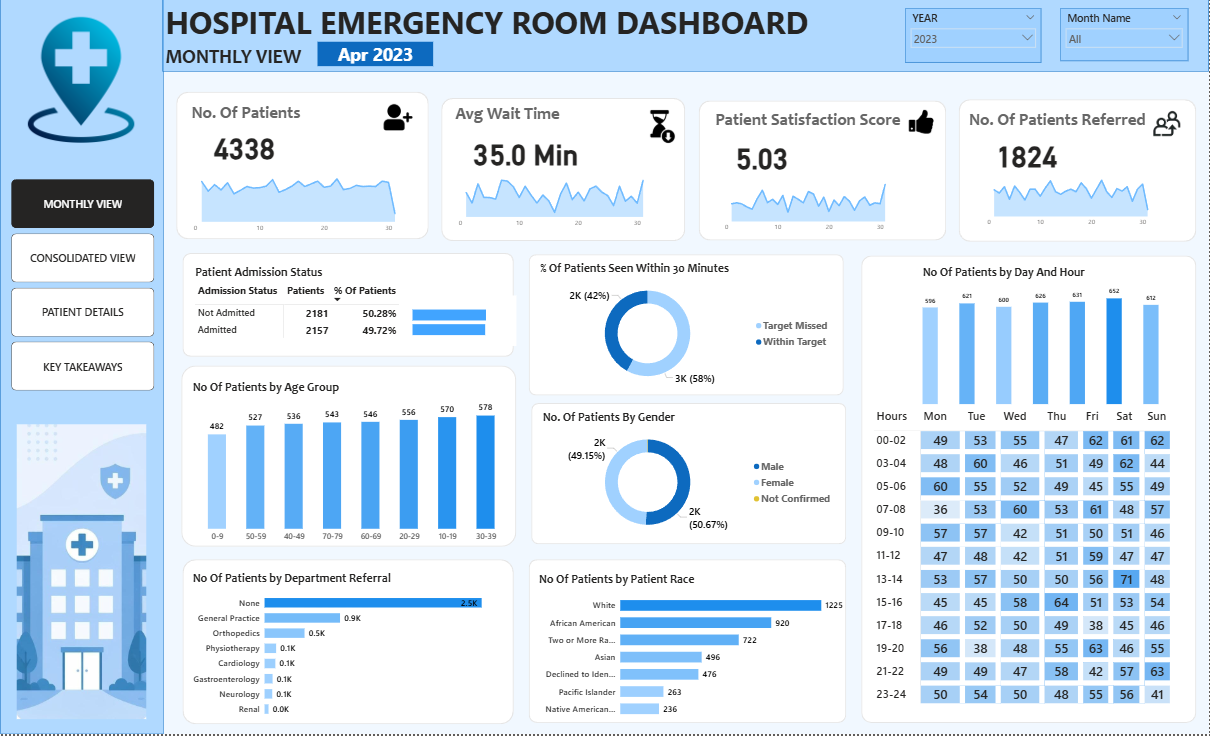

What the dashboard file says about the page in this screenshot:
{"tool":"powerbi","page":{"name":"MONTHLY VIEW ","canvas":[2300,1400],"ordinal":0},"visuals":[{"type":"shape","box":[840,189.2,464.1,272.2],"z":0},{"type":"shape","box":[335.3,178.3,480.3,280.6],"z":1000},{"type":"card","fields":{"Values":["Hospital ER_Data.No Of Patients"]},"box":[368.2,220.3,197,119.3],"z":1000,"group":"g2"},{"type":"shape","box":[0,0,311.5,1400.5],"z":2000},{"type":"card","fields":{"Values":["Hospital ER_Data.Avg Wait Time"]},"box":[881.4,233.3,235.9,119.3],"z":3000},{"type":"shape","box":[309.1,0,1990.2,140.3],"z":4000},{"type":"textbox","box":[309.1,0,1300.6,118.9],"z":5000},{"type":"textbox","box":[309.1,83.2,316.2,71.3],"z":6000},{"type":"slicer","fields":{"Values":["Date Table.YEAR"]},"box":[1721.4,18.1,259.2,103.7],"z":7000},{"type":"slicer","fields":{"Values":["Date Table.Month Name"]},"box":[2016.9,18.1,243.7,101.1],"z":8000},{"type":"textbox","box":[360.4,191.8,264.4,57],"z":8000,"group":"g2"},{"type":"card","fields":{"Values":["Min(Date Table.Month & year)"]},"box":[604,83,220.4,46.7],"z":9000},{"type":"areaChart","fields":{"Category":["Date Table.Date.Variation.Date Hierarchy.Day"],"Y":["Hospital ER_Data.No Of Patients"]},"box":[357.8,300.7,458.9,153],"z":9000,"group":"g2"},{"type":"areaChart","fields":{"Category":["Date Table.Date.Variation.Date Hierarchy.Day"],"Y":["Avg(Hospital ER_Data.Patient Waittime)"]},"box":[860.7,318.9,422.6,127],"z":10000},{"type":"group","id":"g1","title":"Group 1","box":[357.8,191.8,458.9,261.8],"z":11000},{"type":"areaChart","fields":{"Category":["Date Table.Date.Variation.Date Hierarchy.Day"],"Y":["Hospital ER_Data.No Of Patients"]},"box":[1335.1,292.9,458.9,153],"z":12000},{"type":"shape","box":[1328.4,195,470.8,266.3],"z":13000},{"type":"shape","box":[1823.7,192.6,451.8,271.1],"z":14000},{"type":"group","id":"g2","title":"Group 2","box":[357.8,191.8,458.9,261.8],"z":14001,"group":"g1"},{"type":"card","fields":{"Values":["Hospital ER_Data.satisfaction Score"]},"box":[1350.7,241.1,197,119.3],"z":15000},{"type":"areaChart","fields":{"Category":["Date Table.Date.Variation.Date Hierarchy.Day"],"Y":["Hospital ER_Data.satisfaction Score"]},"box":[1366.2,337,370.7,116.7],"z":16000},{"type":"card","fields":{"Values":["Hospital ER_Data.No. Of Patient Referred"]},"box":[1853.6,248.9,197,90.7],"z":17000},{"type":"areaChart","fields":{"Category":["Date Table.Date.Variation.Date Hierarchy.Day"],"Y":["Hospital ER_Data.No. Of Patient Referred"]},"box":[1866.6,329.2,370.7,116.7],"z":18000},{"type":"textbox","box":[860.7,194.4,230.7,54.4],"z":19000},{"type":"textbox","box":[1355.9,207.4,381.1,54.4],"z":20000},{"type":"textbox","box":[1838,206.9,356.7,57.1],"z":21000},{"type":"shape","box":[347.1,485.1,630.1,197.4],"z":22000},{"type":"pivotTable","title":"Patient Admission Status","fields":{"Rows":["Hospital ER_Data.Admission Status"],"Values":["Hospital ER_Data.No Of Patients1","Hospital ER_Data.No Of Patients"]},"box":[365.5,505.5,585.9,176.3],"z":23000},{"type":"barChart","fields":{"Category":["Hospital ER_Data.Admission Status"],"Y":["Hospital ER_Data.No Of Patients"]},"box":[780.3,565.2,202.2,95.9],"z":24000},{"type":"shape","box":[344.8,699.1,637.2,344.8],"z":25000},{"type":"clusteredColumnChart","fields":{"Category":["Hospital ER_Data.Age Group"],"Y":["Hospital ER_Data.No Of Patients"]},"box":[361.4,725.2,615.8,318.6],"z":26000},{"type":"shape","box":[347.1,1067.6,630.1,313.9],"z":27000},{"type":"clusteredBarChart","fields":{"Category":["Hospital ER_Data.Department Referral"],"Y":["Hospital ER_Data.No Of Patients"]},"box":[361.4,1089,589.7,290.1],"z":28000},{"type":"shape","box":[1005.8,487.4,599.2,268.7],"z":29000},{"type":"donutChart","title":"%  Of Patients Seen Within 30 Minutes","fields":{"Category":["Hospital ER_Data.Waittime Status"],"Y":["Hospital ER_Data.No Of Patients"]},"box":[1022.4,499.3,565.9,249.7],"z":30000},{"type":"shape","box":[1005.8,1067.6,603.9,311.5],"z":31000},{"type":"shape","box":[1010.1,771.3,599.2,268.7],"z":32000},{"type":"donutChart","title":"No. Of Patients By Gender","fields":{"Category":["Hospital ER_Data.Patient Gender"],"Y":["Hospital ER_Data.No Of Patients"]},"box":[1026.7,783.2,565.9,249.7],"z":33000},{"type":"shape","box":[1638.3,489.8,637.2,889.3],"z":34000},{"type":"clusteredBarChart","fields":{"Category":["Hospital ER_Data.Patient Race"],"Y":["Hospital ER_Data.No Of Patients"]},"box":[1020,1091.4,589.7,290.1],"z":35000},{"type":"pivotTable","fields":{"Rows":["Hospital ER_Data.WaitTime Interval"],"Values":["Hospital ER_Data.No Of Patients"],"Columns":["Date Table.Day Name"]},"box":[1656.6,772.6,604,583.3],"z":36000},{"type":"columnChart","title":"No Of Patients by Day And Hour","fields":{"Category":["Date Table.Day Name"],"Y":["Hospital ER_Data.No Of Patients"]},"box":[1749.9,505.5,461.5,272.2],"z":37000},{"type":"image","box":[19,30.9,271.1,249.7],"z":38000},{"type":"image","box":[715.5,194.4,83,62.2],"z":39000},{"type":"image","box":[1218.5,207.4,85.6,75.2],"z":40000},{"type":"image","box":[2163.7,185.5,111.8,109.4],"z":41000},{"type":"image","box":[1721.5,199.7,61.8,71.3],"z":42000},{"type":"pageNavigator","box":[20.7,344.8,272.2,404.4],"z":43000},{"type":"image","box":[18.1,806.3,272.2,570.3],"z":44000}]}

Visuals, with their boxes in screenshot pixels (x1, y1, x2, y2), scaled from the page's 2300x1400 canvas onto the 1210x736 screenshot:
shape: <bbox>442, 99, 686, 243</bbox>
shape: <bbox>176, 94, 429, 241</bbox>
card - Hospital ER_Data.No Of Patients: <bbox>194, 116, 297, 179</bbox>
shape: <bbox>0, 0, 164, 735</bbox>
card - Hospital ER_Data.Avg Wait Time: <bbox>464, 123, 588, 185</bbox>
shape: <bbox>163, 0, 1209, 74</bbox>
textbox: <bbox>163, 0, 847, 63</bbox>
textbox: <bbox>163, 44, 329, 81</bbox>
slicer - Date Table.YEAR: <bbox>906, 10, 1042, 64</bbox>
slicer - Date Table.Month Name: <bbox>1061, 10, 1189, 63</bbox>
textbox: <bbox>190, 101, 329, 131</bbox>
card - Min(Date Table.Month & year): <bbox>318, 44, 434, 68</bbox>
areaChart - Date Table.Date.Variation.Date Hierarchy.Day x Hospital ER_Data.No Of Patients: <bbox>188, 158, 430, 239</bbox>
areaChart - Date Table.Date.Variation.Date Hierarchy.Day x Avg(Hospital ER_Data.Patient Waittime): <bbox>453, 168, 675, 234</bbox>
"Group 1" group: <bbox>188, 101, 430, 238</bbox>
areaChart - Date Table.Date.Variation.Date Hierarchy.Day x Hospital ER_Data.No Of Patients: <bbox>702, 154, 944, 234</bbox>
shape: <bbox>699, 103, 947, 243</bbox>
shape: <bbox>959, 101, 1197, 244</bbox>
"Group 2" group: <bbox>188, 101, 430, 238</bbox>
card - Hospital ER_Data.satisfaction Score: <bbox>711, 127, 814, 189</bbox>
areaChart - Date Table.Date.Variation.Date Hierarchy.Day x Hospital ER_Data.satisfaction Score: <bbox>719, 177, 914, 239</bbox>
card - Hospital ER_Data.No. Of Patient Referred: <bbox>975, 131, 1079, 179</bbox>
areaChart - Date Table.Date.Variation.Date Hierarchy.Day x Hospital ER_Data.No. Of Patient Referred: <bbox>982, 173, 1177, 234</bbox>
textbox: <bbox>453, 102, 574, 131</bbox>
textbox: <bbox>713, 109, 914, 138</bbox>
textbox: <bbox>967, 109, 1155, 139</bbox>
shape: <bbox>183, 255, 514, 359</bbox>
"Patient Admission Status" pivotTable: <bbox>192, 266, 501, 358</bbox>
barChart - Hospital ER_Data.Admission Status x Hospital ER_Data.No Of Patients: <bbox>411, 297, 517, 348</bbox>
shape: <bbox>181, 368, 517, 549</bbox>
clusteredColumnChart - Hospital ER_Data.Age Group x Hospital ER_Data.No Of Patients: <bbox>190, 381, 514, 549</bbox>
shape: <bbox>183, 561, 514, 726</bbox>
clusteredBarChart - Hospital ER_Data.Department Referral x Hospital ER_Data.No Of Patients: <bbox>190, 573, 500, 725</bbox>
shape: <bbox>529, 256, 844, 397</bbox>
"%  Of Patients Seen Within 30 Minutes" donutChart: <bbox>538, 262, 836, 394</bbox>
shape: <bbox>529, 561, 847, 725</bbox>
shape: <bbox>531, 405, 847, 547</bbox>
"No. Of Patients By Gender" donutChart: <bbox>540, 412, 838, 543</bbox>
shape: <bbox>862, 257, 1197, 725</bbox>
clusteredBarChart - Hospital ER_Data.Patient Race x Hospital ER_Data.No Of Patients: <bbox>537, 574, 847, 726</bbox>
pivotTable - Hospital ER_Data.WaitTime Interval x Hospital ER_Data.No Of Patients: <bbox>872, 406, 1189, 713</bbox>
"No Of Patients by Day And Hour" columnChart: <bbox>921, 266, 1163, 409</bbox>
image: <bbox>10, 16, 153, 148</bbox>
image: <bbox>376, 102, 420, 135</bbox>
image: <bbox>641, 109, 686, 149</bbox>
image: <bbox>1138, 98, 1197, 155</bbox>
image: <bbox>906, 105, 938, 142</bbox>
pageNavigator: <bbox>11, 181, 154, 394</bbox>
image: <bbox>10, 424, 153, 724</bbox>
